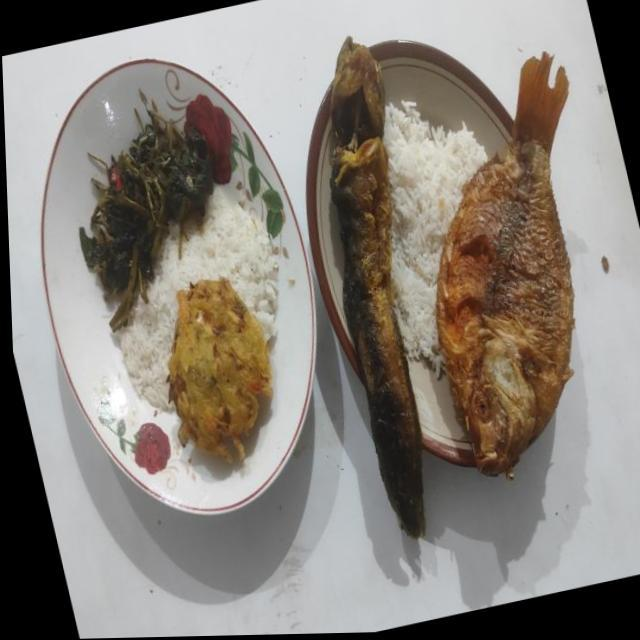ikan_mujair: (436, 125, 574, 478)
nasi_putih: (120, 193, 279, 410), (382, 103, 488, 371)
tumis_kangkung: (80, 110, 214, 332)
